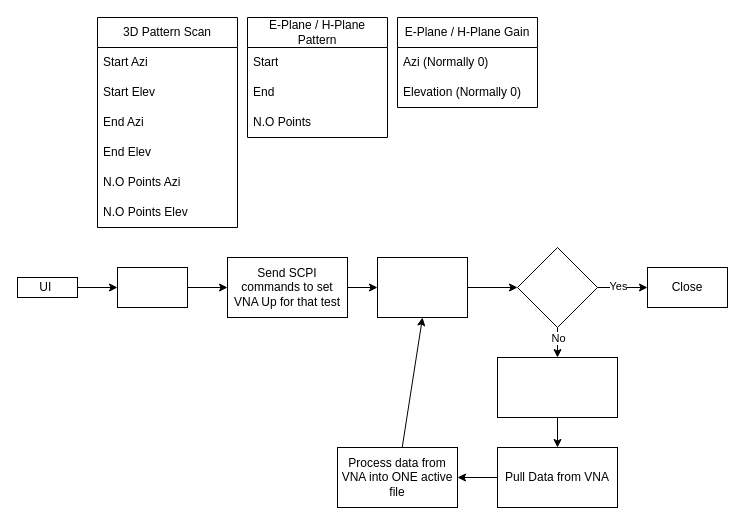
Some shapes in this 745 by 525 pixel diagram are drawn without their labels. Here are the shapes that lost their labels. From the top down, the centre of each, then its label:
(x=152, y=287): Button for Test X
(x=422, y=287): Start motor controler
(x=557, y=287): Done ?
(x=557, y=387): Start SCPI command to collect data
